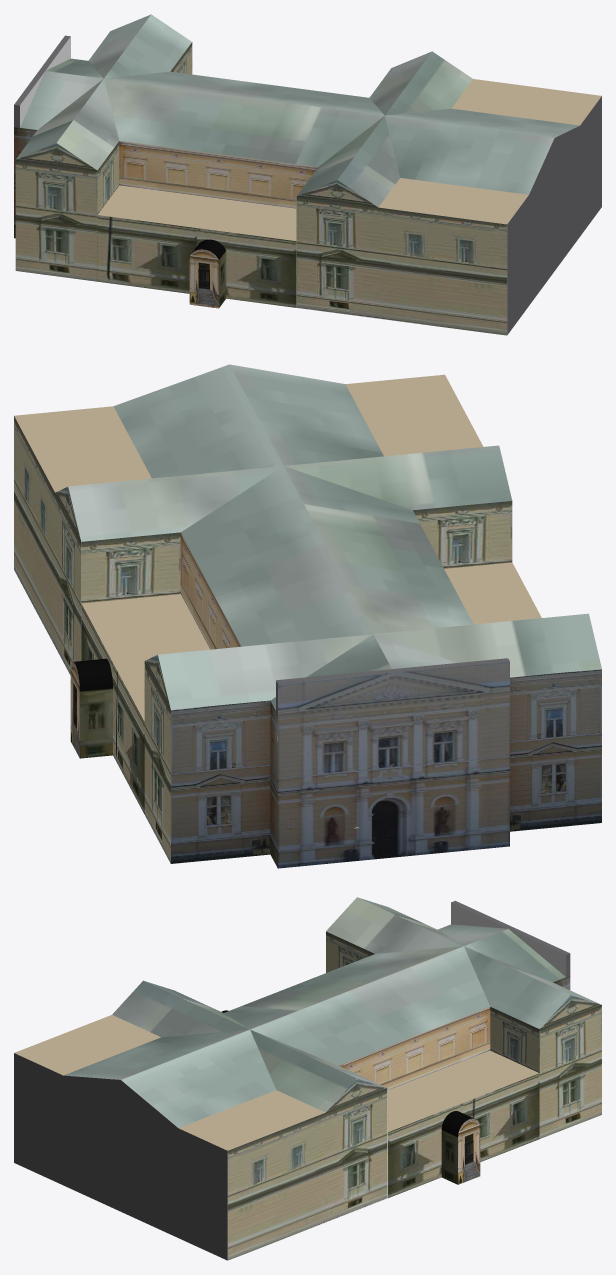
File: Theather001.dae
3 renders of one model, top to bottom at view 1: azimuth 30°, elevation 25°; view 2: azimuth 150°, elevation 25°; view 3: azimuth 270°, elevation 25°, orthographic. The views are drawn at different scales.
Parts seen in each view (by area): view 1: SketchUp (×17); view 2: SketchUp (×22); view 3: SketchUp (×18).
Boxes of the visible parts, <box> form: SketchUp (×17): <box>14,14,601,335</box>; SketchUp (×22): <box>14,364,601,868</box>; SketchUp (×18): <box>14,897,601,1260</box>.
Bounding box in the file's own units: 1874 × 1909 × 472.
17 materials, 13 textured.
